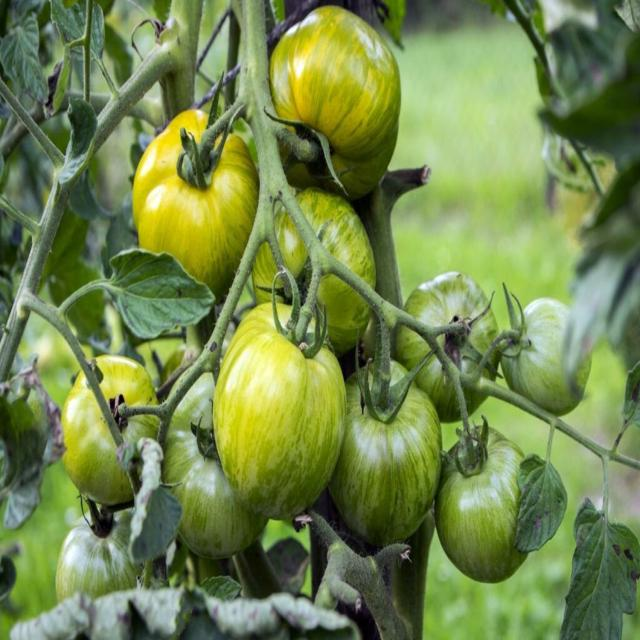yesil: (218, 286, 358, 524), (267, 0, 421, 210), (140, 90, 252, 288), (328, 359, 435, 545), (448, 401, 549, 574)
